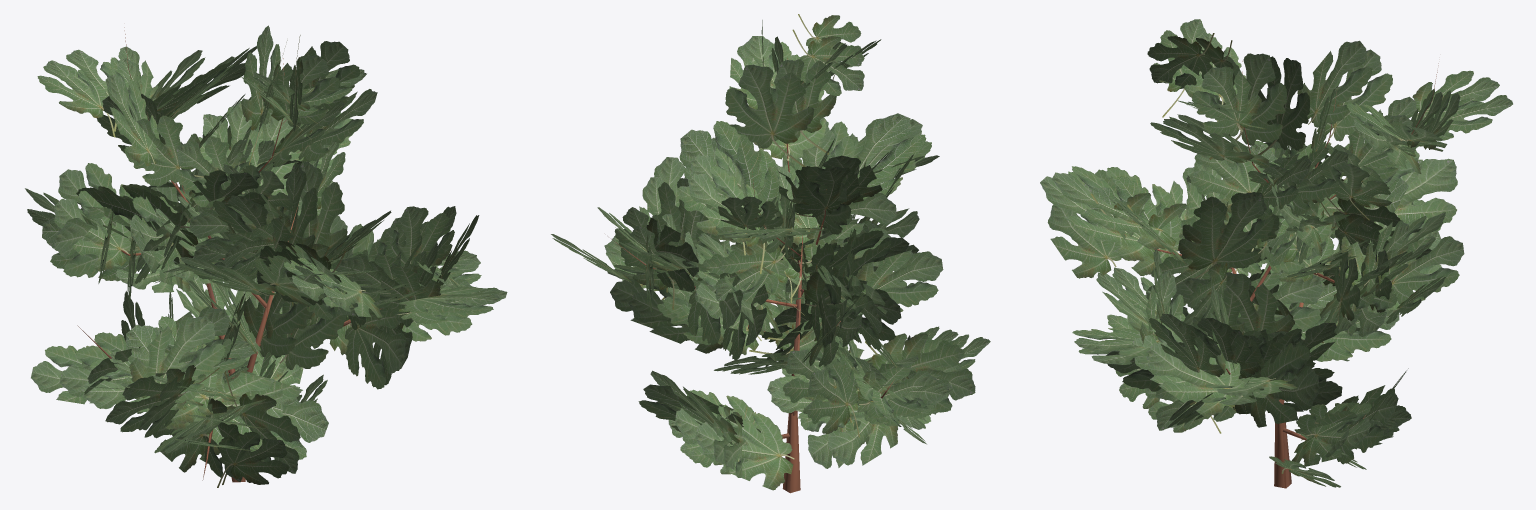
The model's file is TemperateBush.glb.
The picture shows the model from 3 angles, left to right: view 1: azimuth 30°, elevation 25°; view 2: azimuth 150°, elevation 25°; view 3: azimuth 270°, elevation 25°; orthographic projection. The views are drawn at different scales.
Visible parts, largest first — view 1: bush_higher; view 2: bush_higher; view 3: bush_higher.
Boxes of the visible parts, bbox=[...] form: bush_higher: bbox=[25, 25, 507, 487]; bush_higher: bbox=[551, 14, 990, 493]; bush_higher: bbox=[1040, 19, 1512, 488].
Bounding box in the file's own units: 1.64 × 1.8 × 1.73.
Materials: 2 (2 with a texture image).
